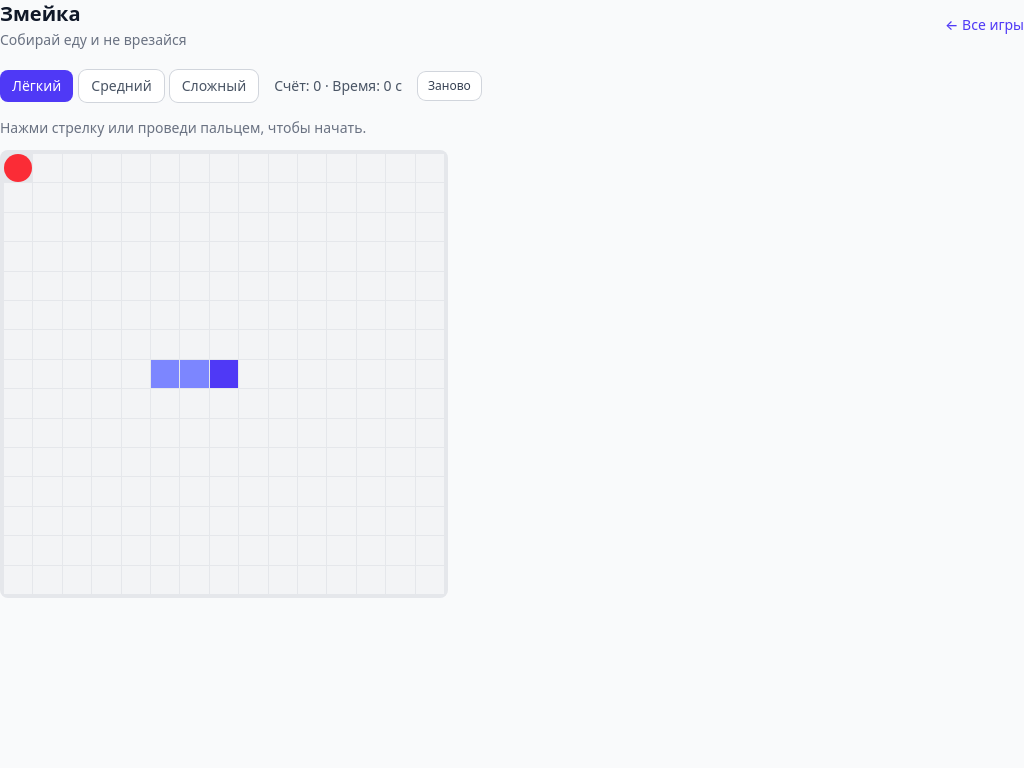
it: SnakePage › closes the result modal without reopening it
Press ArrowRight
Wait 1200 ms
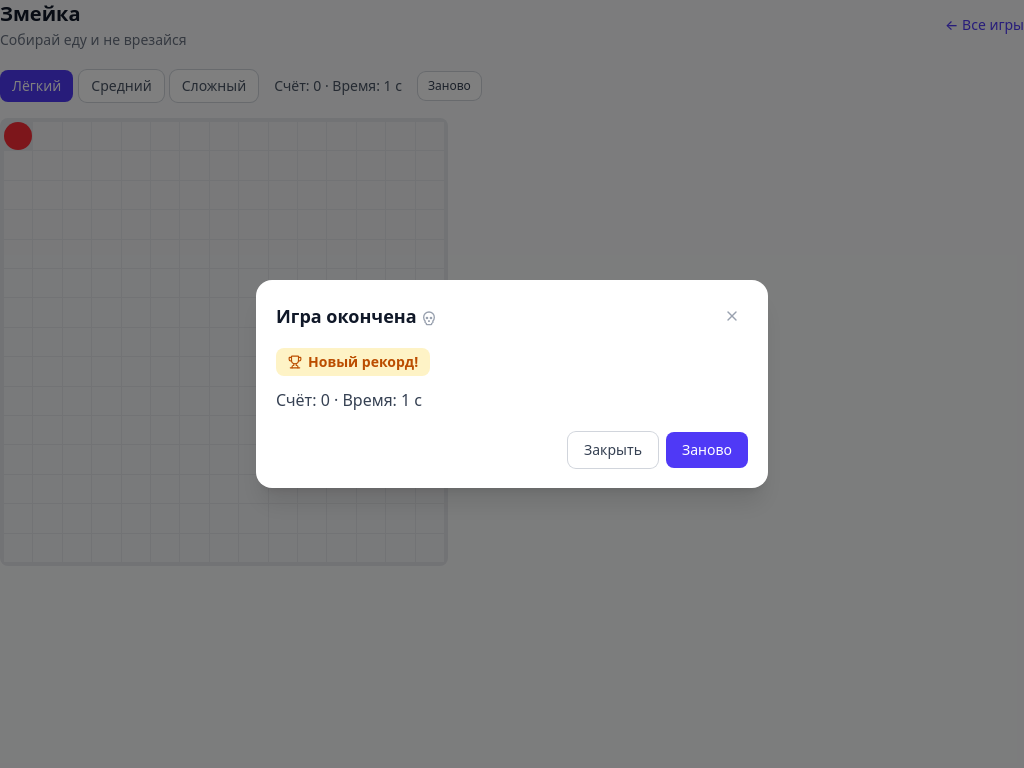
Expected: the heading "Игра окончена" is shown, x1=276 y1=302 x2=437 y2=330
Click the button named "Закрыть".
click(732, 316)  # box x1=716 y1=300 x2=748 y2=332
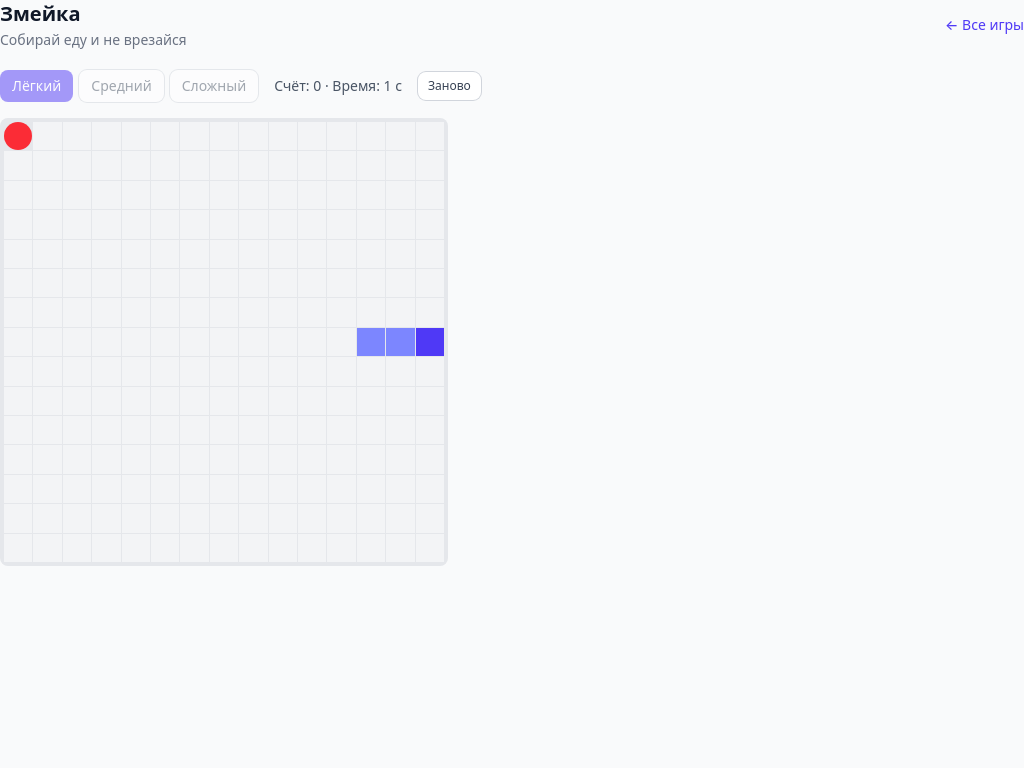
Expected: the heading "Игра окончена" is gone
